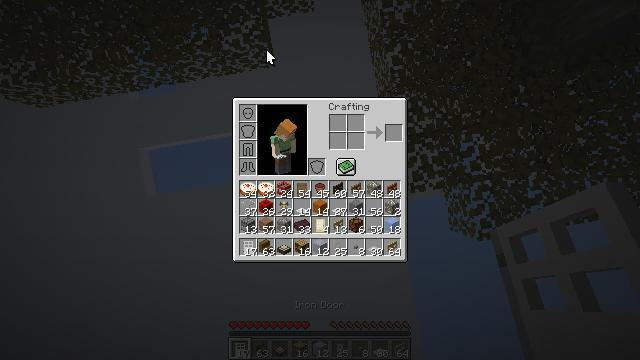cursor: (49, 266, 65, 276)
